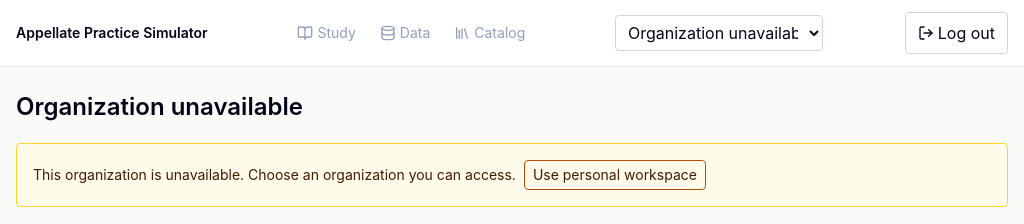
Test: OrganizationContextProvider › can retry personal bootstrap after explicit recovery from a revoked organization
Expected: the message shows "organization is unavailable", [33,166,516,183]
Step 1. Click the button "Use personal workspace" → (615,175), box [524,160,706,190]
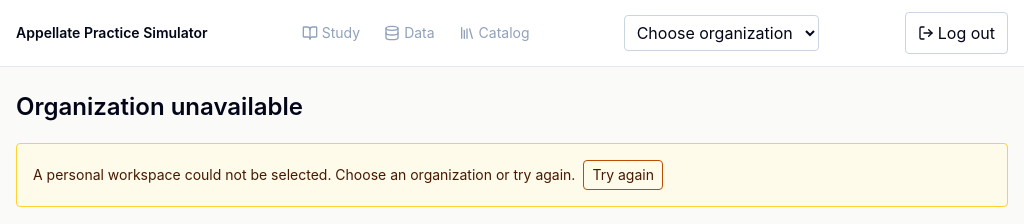
Expected: the button "Try again" is shown
Step 2. Click the button "Try again" → (623,175), box [583,160,663,190]
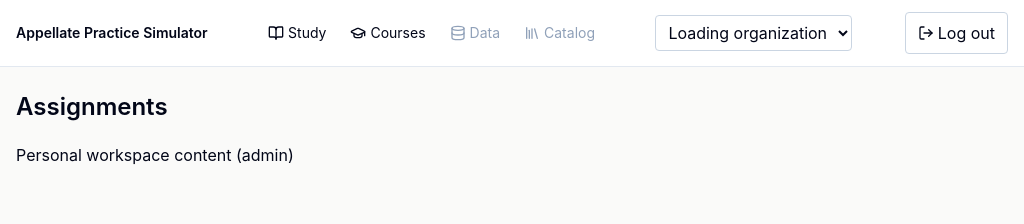
Expected: the text "Personal workspace content (admin)" is shown, [16,145,294,165]
